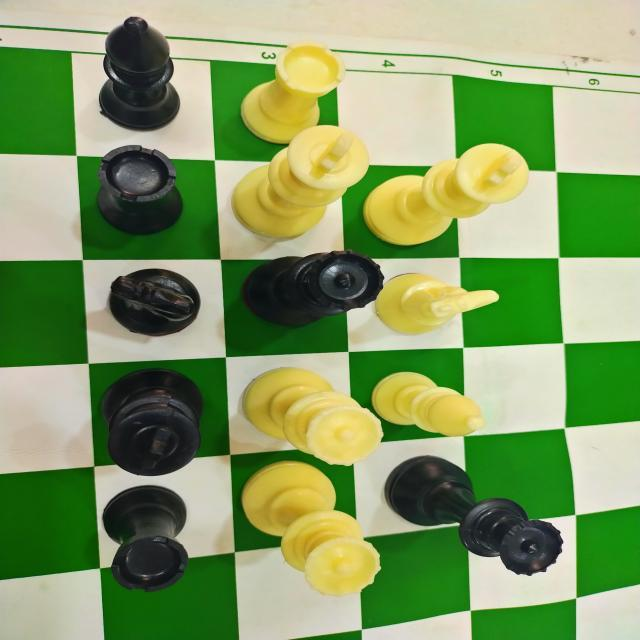black-bishop: (74, 15, 192, 134)
black-king: (100, 368, 204, 478)
black-knight: (108, 266, 202, 338)
black-queen: (382, 452, 564, 575), (240, 250, 384, 326)
black-rook: (94, 482, 196, 592), (92, 143, 186, 235)
white-bishop: (368, 370, 486, 450)
white-king: (362, 141, 531, 249), (233, 126, 369, 248)
white-knight: (379, 272, 500, 334)
white-queen: (235, 462, 382, 600), (232, 366, 386, 476)
white-rook: (229, 41, 346, 142)
